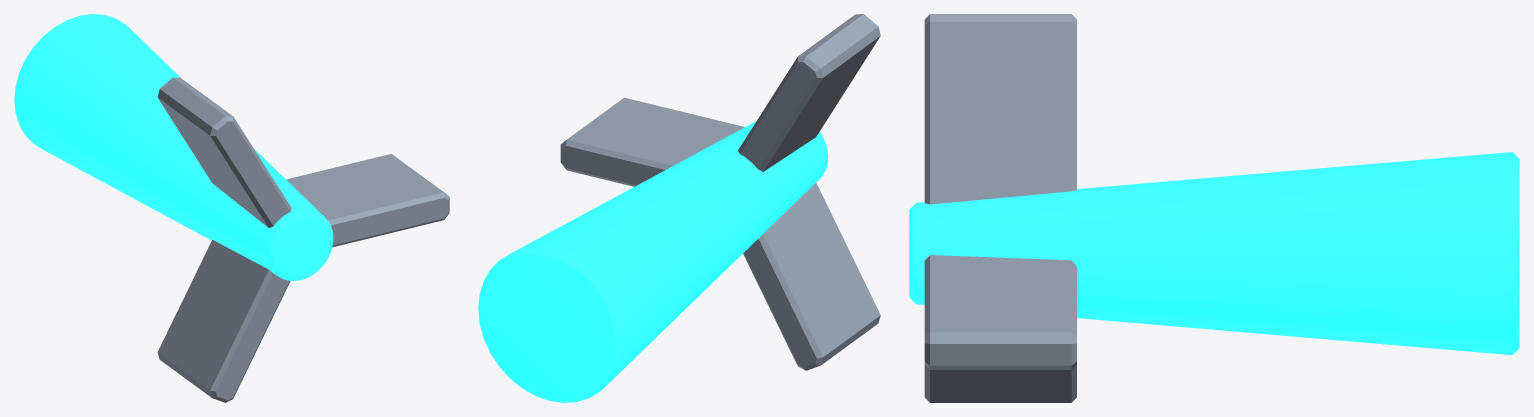
The model's file is proj_skywatch_bolt_t2.glb.
3 renders of one model, left to right at view 1: azimuth 30°, elevation 25°; view 2: azimuth 150°, elevation 25°; view 3: azimuth 270°, elevation 25°, orthographic. The views are drawn at different scales.
Visible parts, largest first — view 1: proj_skywatch_bolt_t2_core, proj_skywatch_bolt_t2_fin2, proj_skywatch_bolt_t2_fin0, proj_skywatch_bolt_t2_fin1; view 2: proj_skywatch_bolt_t2_core, proj_skywatch_bolt_t2_fin2, proj_skywatch_bolt_t2_fin0, proj_skywatch_bolt_t2_fin1; view 3: proj_skywatch_bolt_t2_core, proj_skywatch_bolt_t2_fin1, proj_skywatch_bolt_t2_fin0, proj_skywatch_bolt_t2_fin2.
Part boxes in pixels (bbox=[...]): proj_skywatch_bolt_t2_core: bbox=[14, 14, 333, 280]; proj_skywatch_bolt_t2_fin2: bbox=[157, 240, 290, 402]; proj_skywatch_bolt_t2_fin0: bbox=[286, 154, 449, 247]; proj_skywatch_bolt_t2_fin1: bbox=[157, 77, 291, 227]; proj_skywatch_bolt_t2_core: bbox=[478, 121, 828, 402]; proj_skywatch_bolt_t2_fin2: bbox=[743, 182, 880, 370]; proj_skywatch_bolt_t2_fin0: bbox=[560, 97, 744, 186]; proj_skywatch_bolt_t2_fin1: bbox=[738, 14, 880, 171]; proj_skywatch_bolt_t2_core: bbox=[909, 152, 1519, 355]; proj_skywatch_bolt_t2_fin1: bbox=[924, 14, 1076, 204]; proj_skywatch_bolt_t2_fin0: bbox=[924, 255, 1076, 369]; proj_skywatch_bolt_t2_fin2: bbox=[924, 364, 1076, 402].
Size of what is drawn, in the model's own units: 0.2199 by 0.2517 by 0.36.
